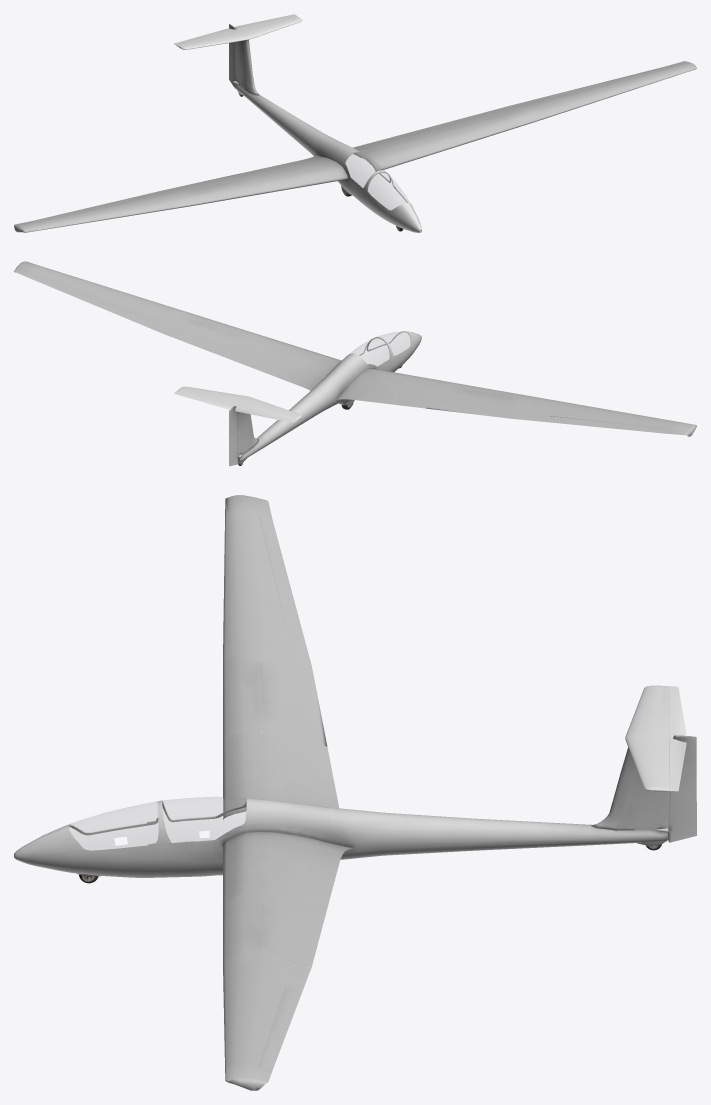
The model's file is ask21.glb.
3 renders of one model, top to bottom at view 1: azimuth 30°, elevation 25°; view 2: azimuth 150°, elevation 25°; view 3: azimuth 270°, elevation 25°, orthographic. The views are drawn at different scales.
Parts seen in each view (by area): view 1: wing.R4, tail.ac.fairing.int, windowR, vstabilizer, wheelR; view 2: wing.R4, tail.ac.fairing.int, vstabilizer, windowR, wheelR; view 3: wing.R4, tail.ac.fairing.int, windowR, vstabilizer, wheelR.
Part boxes in pixels (x1=…): wing.R4: x1=14, y1=61, x2=696, y2=232; tail.ac.fairing.int: x1=229, y1=24, x2=421, y2=232; windowR: x1=345, y1=152, x2=409, y2=210; vstabilizer: x1=174, y1=14, x2=302, y2=49; wheelR: x1=233, y1=29, x2=403, y2=231; wing.R4: x1=14, y1=261, x2=696, y2=436; tail.ac.fairing.int: x1=229, y1=331, x2=421, y2=466; vstabilizer: x1=174, y1=386, x2=301, y2=422; windowR: x1=350, y1=331, x2=410, y2=365; wheelR: x1=236, y1=365, x2=402, y2=465; wing.R4: x1=223, y1=495, x2=353, y2=1090; tail.ac.fairing.int: x1=14, y1=735, x2=696, y2=877; windowR: x1=68, y1=797, x2=246, y2=850; vstabilizer: x1=625, y1=685, x2=686, y2=791; wheelR: x1=76, y1=747, x2=669, y2=883.
Size of the model in its own units: 16.91 by 2.06 by 8.33.
4 materials, 2 textured.
